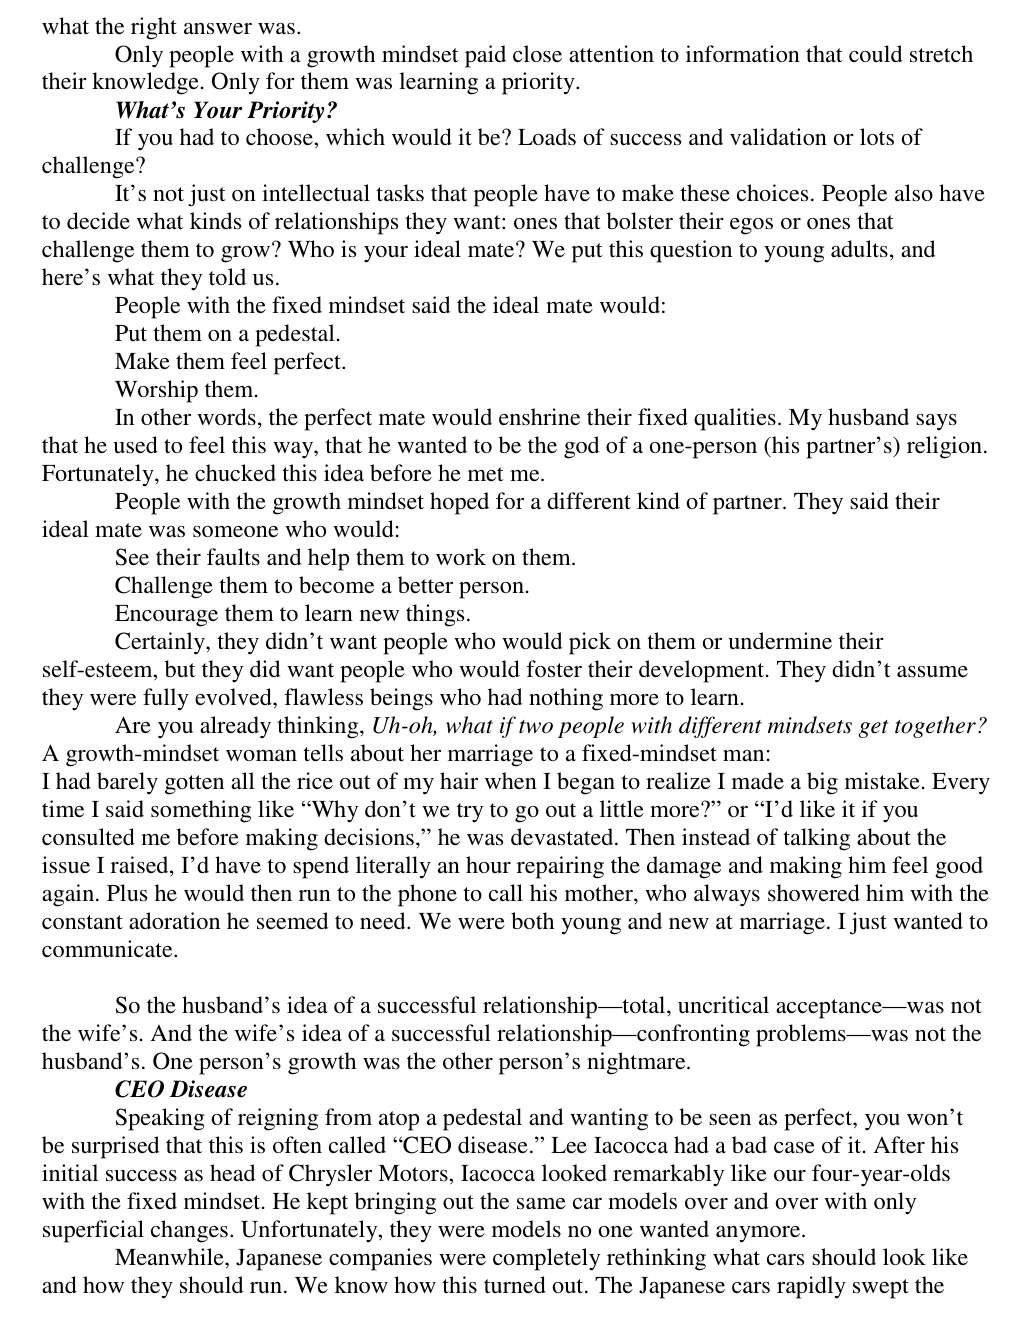latin: (35, 713, 997, 960), (37, 1106, 970, 1300), (27, 487, 940, 630), (36, 180, 985, 293), (38, 398, 990, 488), (38, 990, 983, 1075), (38, 630, 969, 715), (111, 294, 666, 398), (33, 37, 973, 98), (38, 127, 921, 180), (116, 97, 338, 127), (38, 15, 300, 37), (113, 1080, 248, 1097)
